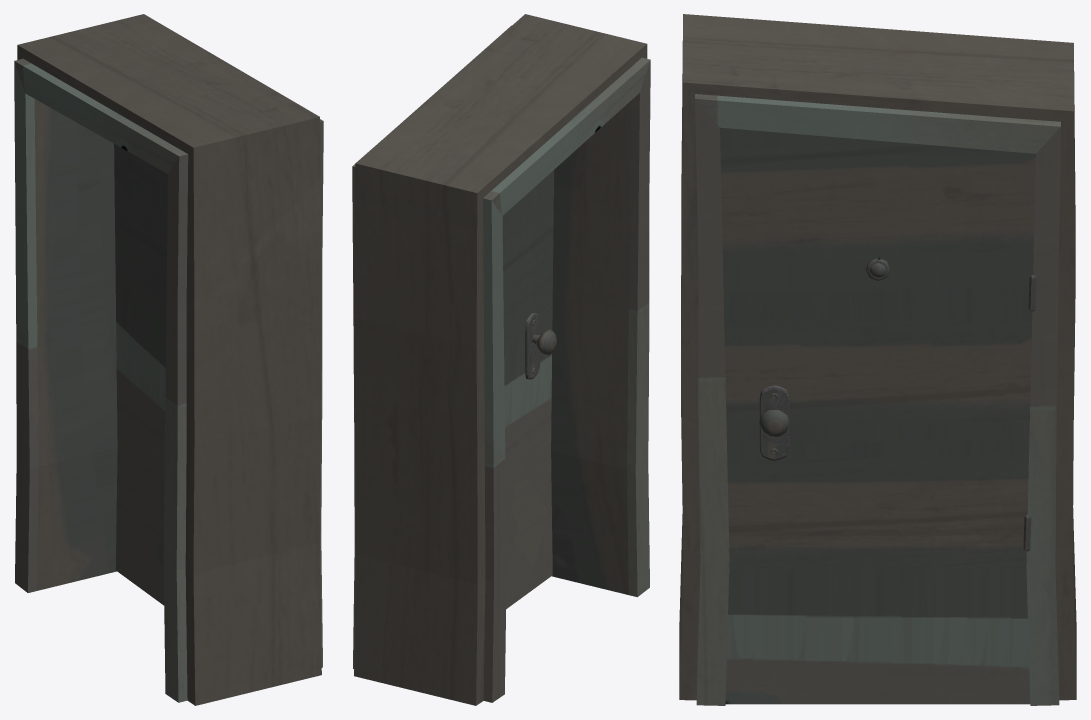
Rendered from EntranceDoor.fbx.
The picture shows the model from 3 angles, left to right: view 1: azimuth 30°, elevation 25°; view 2: azimuth 150°, elevation 25°; view 3: azimuth 270°, elevation 25°; orthographic projection. The views are drawn at different scales.
Visible parts, largest first — view 1: двери.001, двери.002; view 2: двери.001, двери.002; view 3: двери.002, двери.001, двери.003.
Boxes of the visible parts, x1,y1,x2,y2 form: двери.001: (14,14,323,705); двери.002: (114,144,167,605); двери.001: (352,14,650,705); двери.002: (502,170,553,609); двери.002: (720,127,1035,704); двери.001: (679,14,1076,705); двери.003: (758,410,789,437).
Bounding box in the file's own units: 74.09 × 236 × 137.
